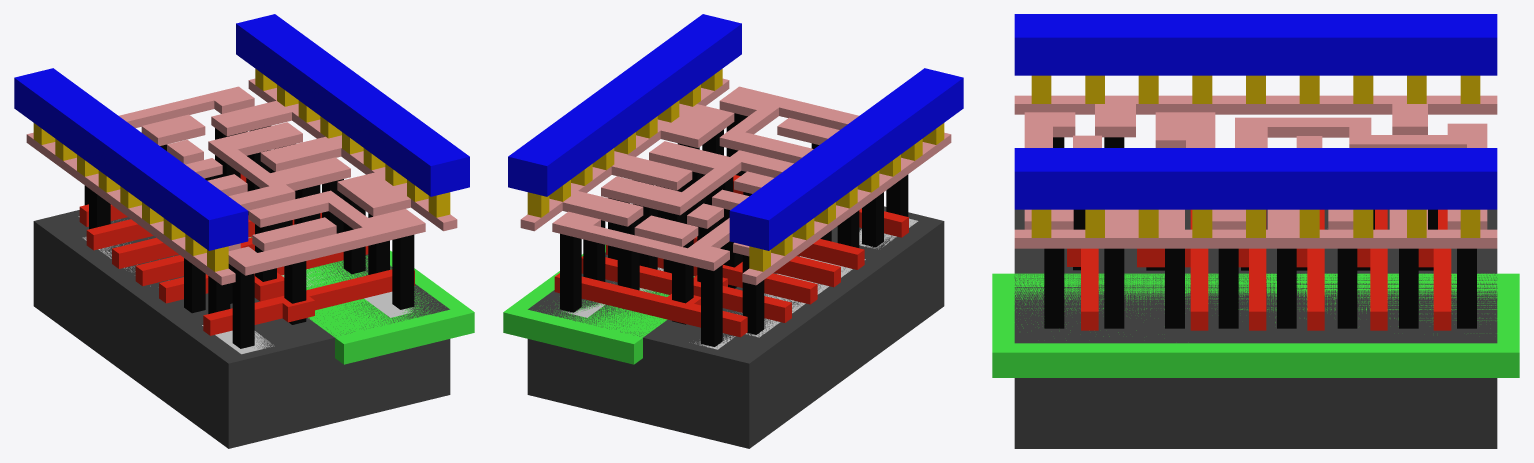
The model's file is sky130_fd_sc_hd__nand4bb_1.obj.
3 renders of one model, left to right at view 1: azimuth 30°, elevation 25°; view 2: azimuth 150°, elevation 25°; view 3: azimuth 270°, elevation 25°, orthographic. The views are drawn at different scales.
Parts seen in each view (by area): view 1: subs, metal1, li, licon, poly, nwell, mcon, diff, tap; view 2: subs, metal1, li, licon, poly, nwell, mcon, diff; view 3: metal1, subs, li, nwell, licon, poly, mcon.
Part boxes in pixels (left/top/right/bottom): subs: left=33, top=210, right=450, bottom=448; metal1: left=14, top=14, right=469, bottom=250; li: left=26, top=78, right=457, bottom=285; licon: left=84, top=126, right=414, bottom=348; poly: left=79, top=174, right=414, bottom=335; nwell: left=250, top=237, right=474, bottom=364; mcon: left=33, top=68, right=450, bottom=271; diff: left=78, top=216, right=274, bottom=354; tap: left=248, top=237, right=416, bottom=317; subs: left=527, top=206, right=944, bottom=448; metal1: left=508, top=14, right=963, bottom=250; li: left=520, top=78, right=951, bottom=285; licon: left=560, top=113, right=908, bottom=346; poly: left=554, top=175, right=908, bottom=337; nwell: left=503, top=245, right=694, bottom=364; mcon: left=527, top=68, right=944, bottom=271; diff: left=689, top=218, right=918, bottom=349; metal1: left=1014, top=14, right=1497, bottom=209; subs: left=1014, top=209, right=1497, bottom=448; li: left=1014, top=95, right=1497, bottom=248; nwell: left=992, top=273, right=1519, bottom=377; licon: left=1044, top=137, right=1476, bottom=328; poly: left=1067, top=209, right=1451, bottom=330; mcon: left=1031, top=75, right=1480, bottom=237.
Bounding box in the file's own units: 3.2 × 2.74 × 4.52.
